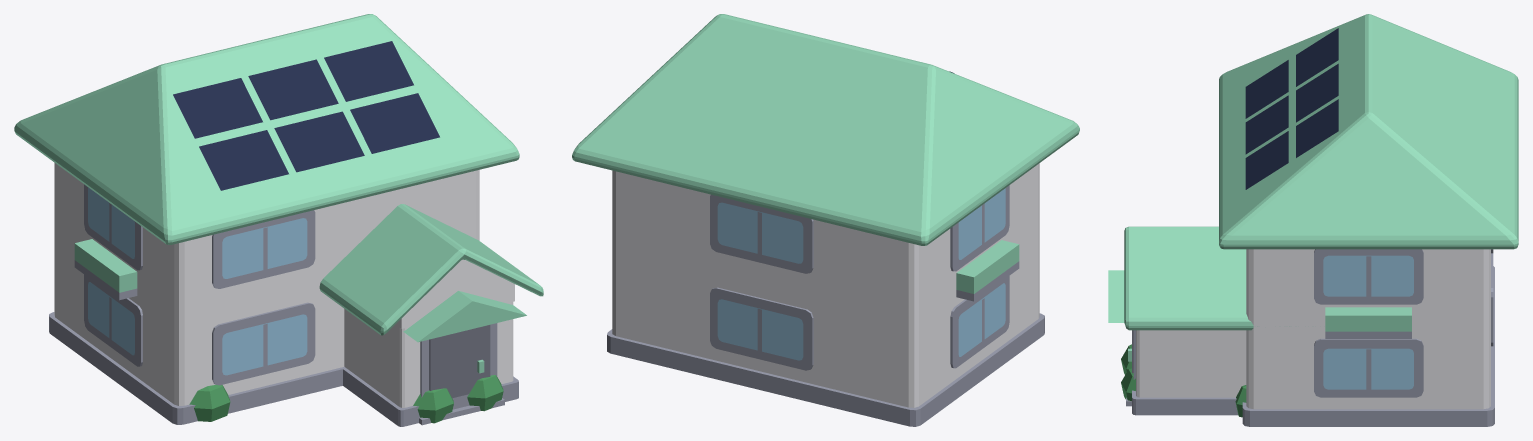
File: house-1x1-2f-mansard-a-solar.glb
3 views of the same model, side by side, from view 1: azimuth 30°, elevation 25°; view 2: azimuth 150°, elevation 25°; view 3: azimuth 270°, elevation 25° (orthographic). The views are drawn at different scales.
Visible parts, largest first — view 1: house-1x1-2f-mansard-a-solar; view 2: house-1x1-2f-mansard-a-solar; view 3: house-1x1-2f-mansard-a-solar.
Boxes of the visible parts, x1,y1,x2,y2 form: house-1x1-2f-mansard-a-solar: (14,14,543,426); house-1x1-2f-mansard-a-solar: (572,14,1079,426); house-1x1-2f-mansard-a-solar: (1108,14,1518,426).
Bounding box in the file's own units: 1 × 0.812 × 1.04.
1 material, 1 textured.
